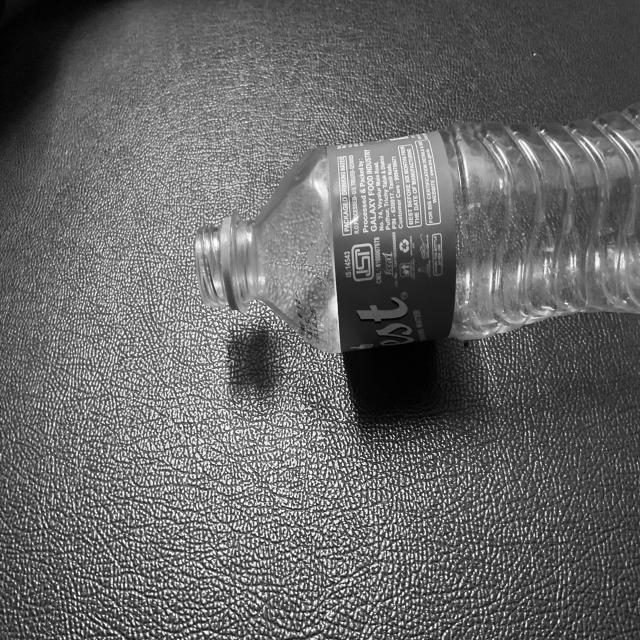open-cap: (190, 217, 243, 313)
